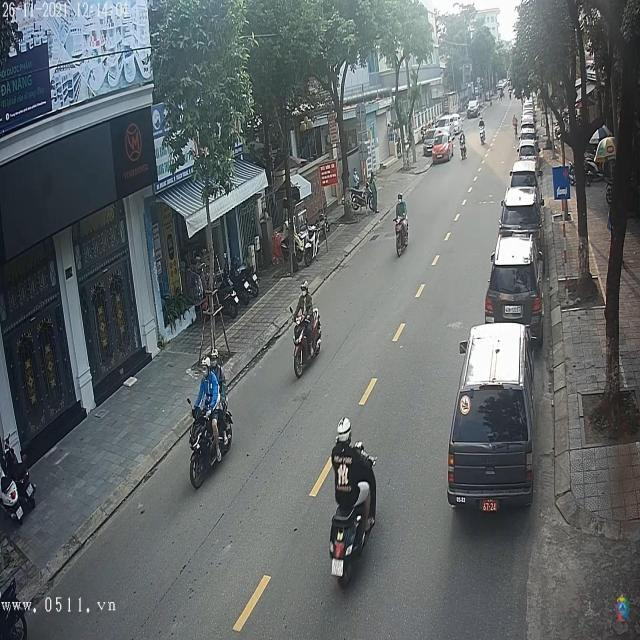car: (448, 326, 534, 510), (484, 234, 545, 330), (499, 190, 542, 238), (517, 141, 538, 163), (468, 99, 480, 117)
motorcycle: (327, 486, 379, 592), (188, 396, 234, 492), (292, 310, 324, 381), (393, 206, 412, 254)
